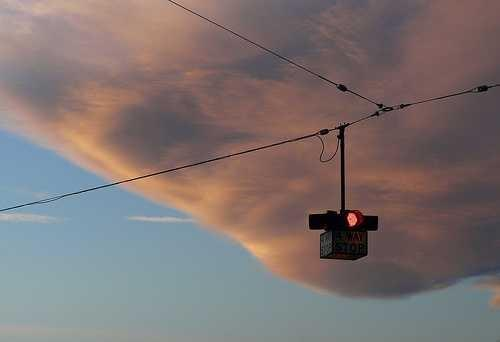red: (343, 208, 366, 255)
